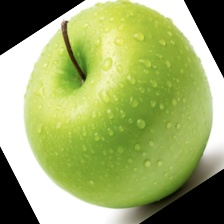apple: (15, 5, 199, 181)
